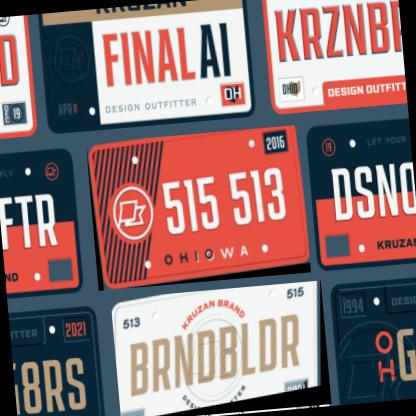Plates: (87, 124, 312, 292), (110, 280, 333, 415)
